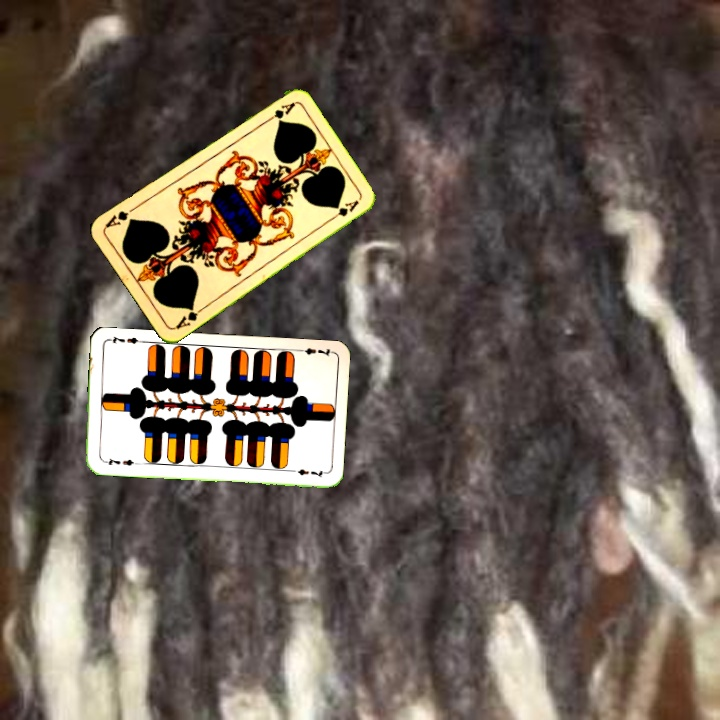E7: (293, 344, 334, 359), (98, 454, 139, 468)
GA: (171, 302, 207, 332), (260, 98, 297, 126)
